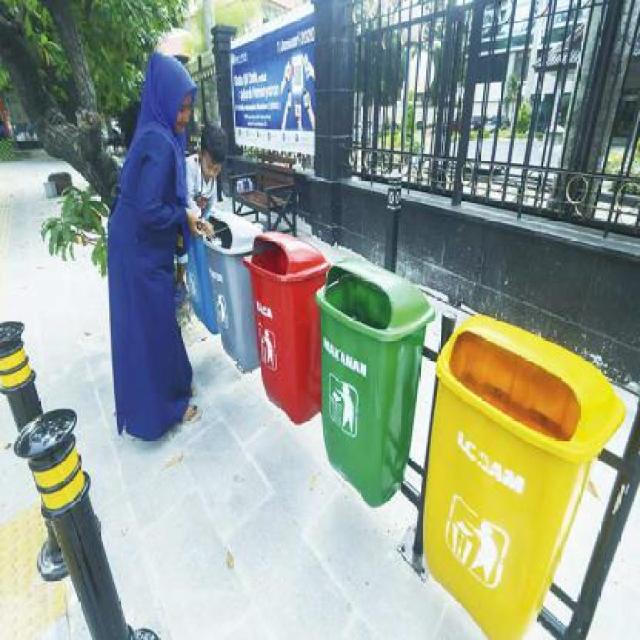garbage container: (416, 303, 632, 635), (322, 246, 436, 528), (250, 224, 322, 438)
